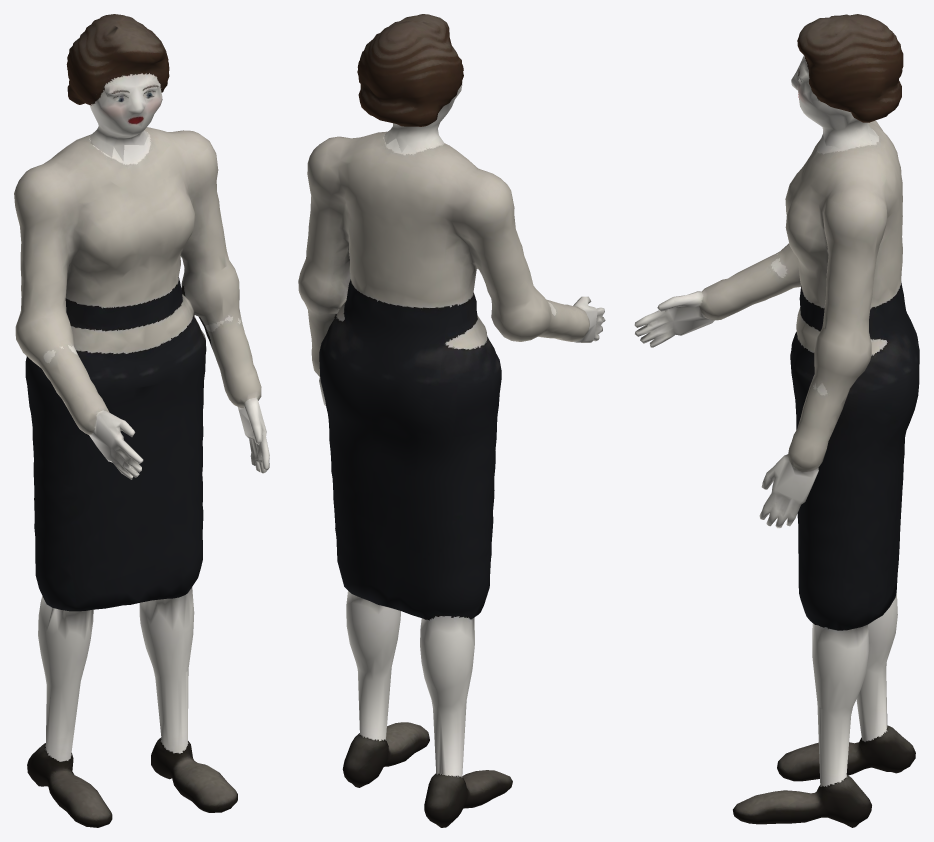
The model's file is mq_woman_blouse.glb.
3 views of the same model, side by side, from view 1: azimuth 30°, elevation 25°; view 2: azimuth 150°, elevation 25°; view 3: azimuth 270°, elevation 25° (orthographic).
Visible parts, largest first — view 1: mq_woman_blouse, mq_woman_blouse_head; view 2: mq_woman_blouse, mq_woman_blouse_head; view 3: mq_woman_blouse, mq_woman_blouse_head.
Boxes of the visible parts, box(x1,y1,x2,y2) form: mq_woman_blouse: box(14, 127, 269, 827); mq_woman_blouse_head: box(66, 14, 169, 161); mq_woman_blouse: box(298, 131, 605, 827); mq_woman_blouse_head: box(357, 14, 463, 152); mq_woman_blouse: box(634, 120, 919, 827); mq_woman_blouse_head: box(791, 14, 903, 150).
Size of the model in its own units: 0.5525 by 1.74 by 0.5727.
1 material, 1 textured.
